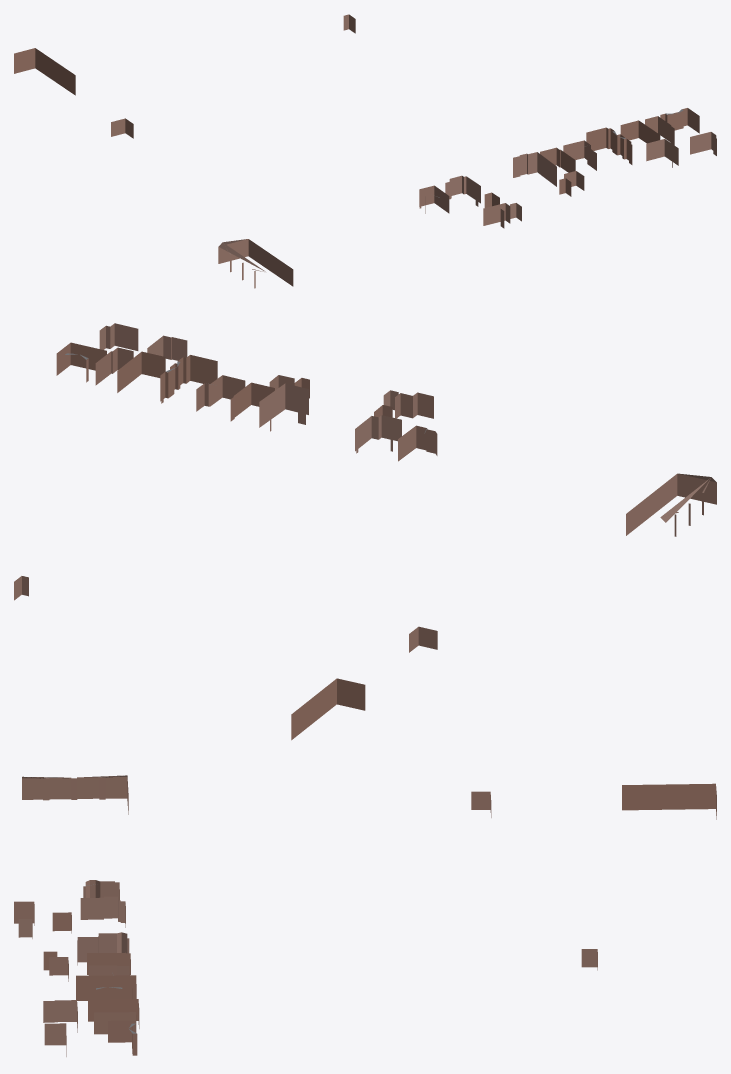
The model's file is c_1636_17828_buildings_residential.glb.
The picture shows the model from 3 angles, top to bottom: view 1: azimuth 30°, elevation 25°; view 2: azimuth 150°, elevation 25°; view 3: azimuth 270°, elevation 25°; orthographic projection. The views are drawn at different scales.
Parts seen in each view (by area): view 1: geometry_0; view 2: geometry_0; view 3: geometry_0.
Part boxes in pixels (x1,y1,x2,y2): geometry_0: (14,14,716,288); geometry_0: (14,323,716,740); geometry_0: (14,775,716,1056).
Bounding box in the file's own units: 267 × 20.72 × 277.
